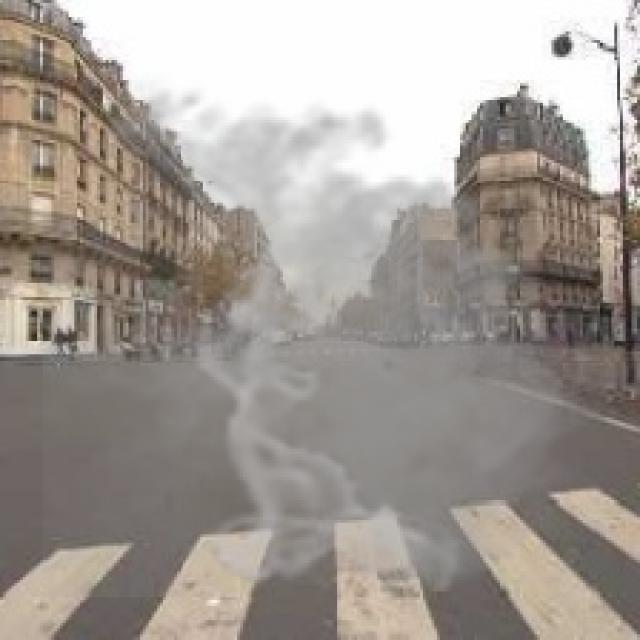Smoke: (43, 72, 606, 598)
